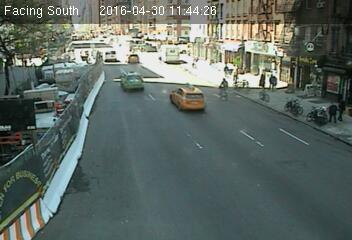neg: (12, 156, 41, 195), (11, 97, 38, 133), (55, 139, 76, 167), (94, 31, 110, 52), (121, 43, 136, 63), (19, 52, 32, 70), (154, 44, 166, 61), (57, 22, 69, 38), (72, 95, 83, 111), (88, 78, 95, 88)
pos: (334, 93, 351, 120), (324, 98, 342, 122), (216, 75, 234, 98), (263, 71, 280, 93)
